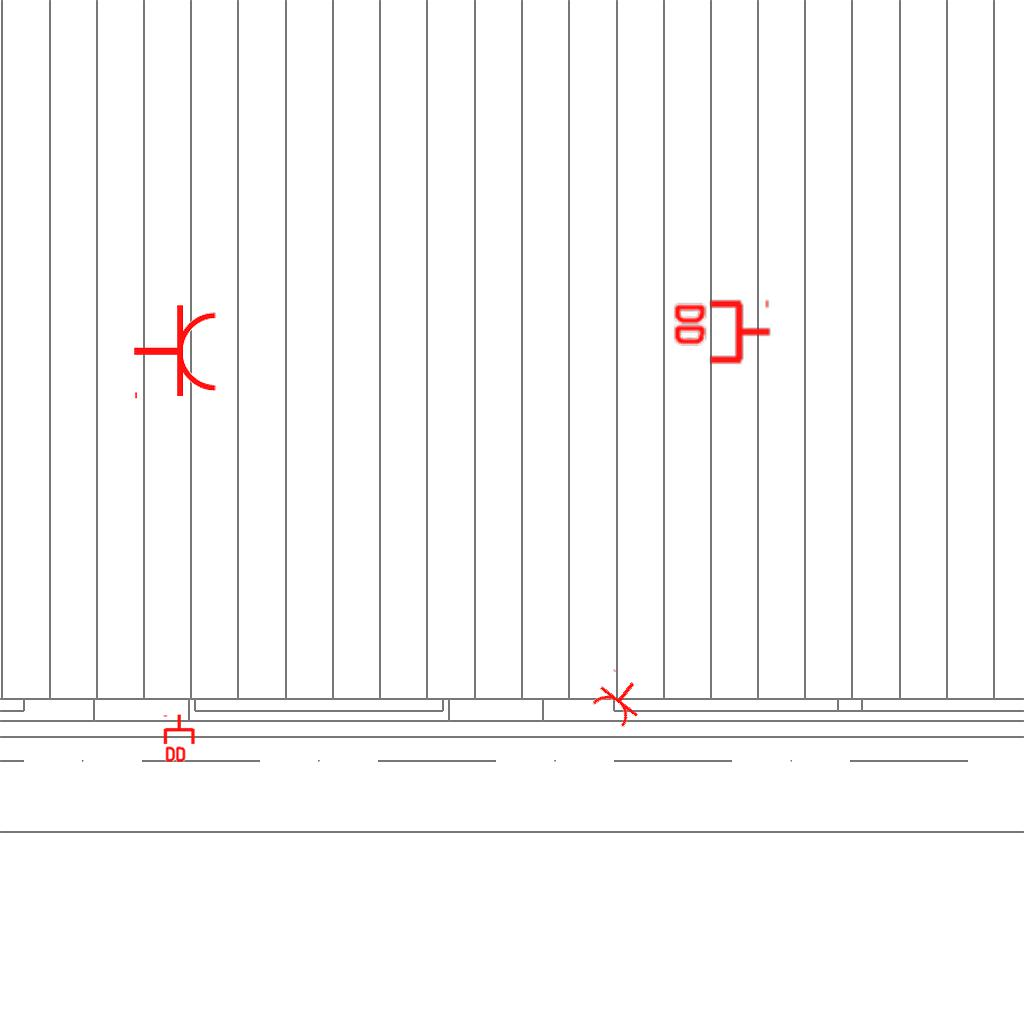Datenanschluss_zweifach: (670, 299, 773, 368), (163, 713, 197, 764)
Schukosteckdose_einfach: (132, 303, 219, 403), (586, 666, 653, 732)
